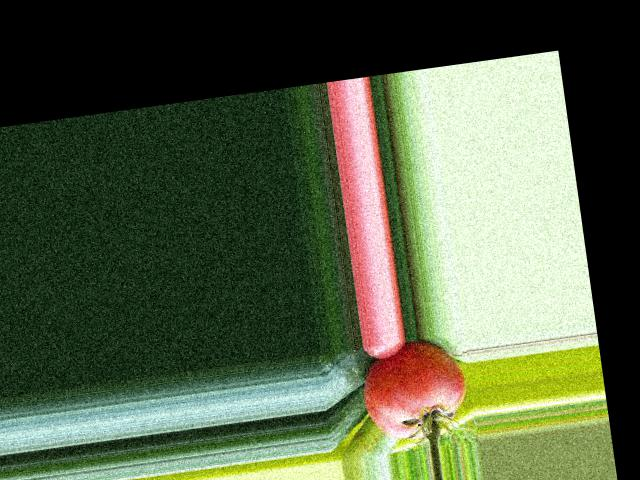tomato: (357, 335, 471, 443)
